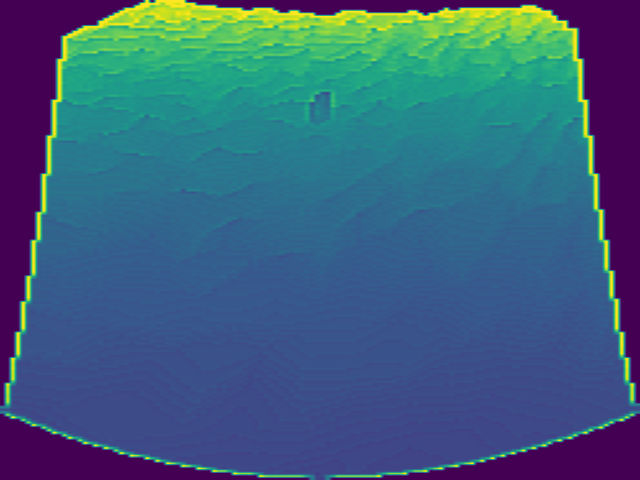car_0198: (305, 89, 335, 124)
